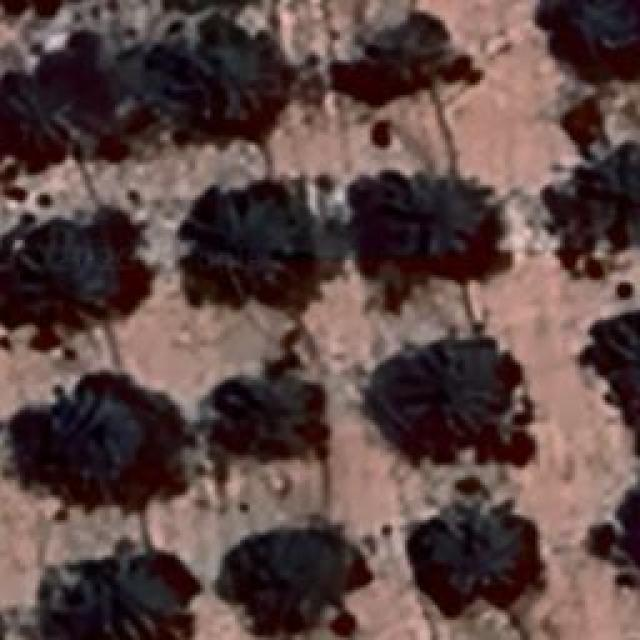PalmTree: (43, 99, 167, 436), (351, 168, 504, 294), (378, 335, 522, 453), (405, 499, 533, 619), (6, 48, 119, 172), (221, 525, 361, 625), (44, 552, 204, 638), (164, 28, 272, 140), (192, 194, 296, 302), (336, 12, 449, 106), (18, 226, 122, 319), (224, 374, 332, 454), (540, 0, 640, 78), (557, 174, 640, 254), (609, 478, 640, 596), (619, 477, 640, 598)
